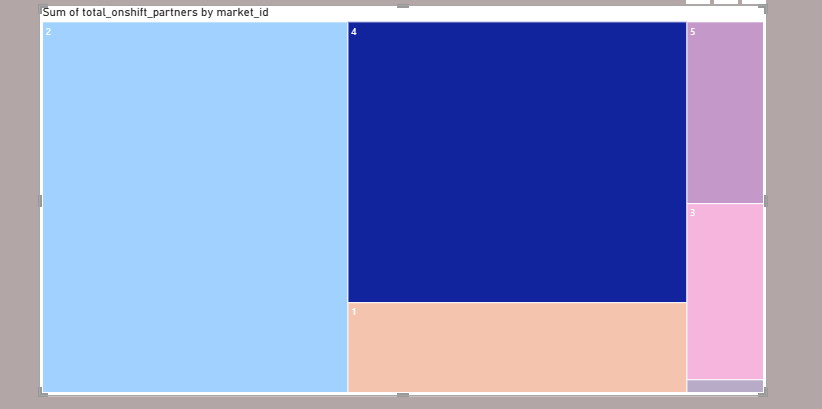

Layout of this report page (visuals, bound fields, positions):
{"tool":"powerbi","page":{"name":"Page 2","canvas":[1280,720],"ordinal":1},"visuals":[{"type":"treemap","fields":{"Group":["portel_dataset (2).market_id"],"Values":["Sum(portel_dataset (2).total_onshift_partners)"]},"box":[214,68.2,850.2,482.8],"z":0}]}

Visuals, with their boxes on the page's 1280x720 design canvas (x1, y1, x2, y2). These are canvas units, not pixel positions in the 822x409 screenshot, which may show the page scaled, cropped or inside an application window:
treemap - portel_dataset (2).market_id x Sum(portel_dataset (2).total_onshift_partners): select_region(214, 68, 1064, 551)
